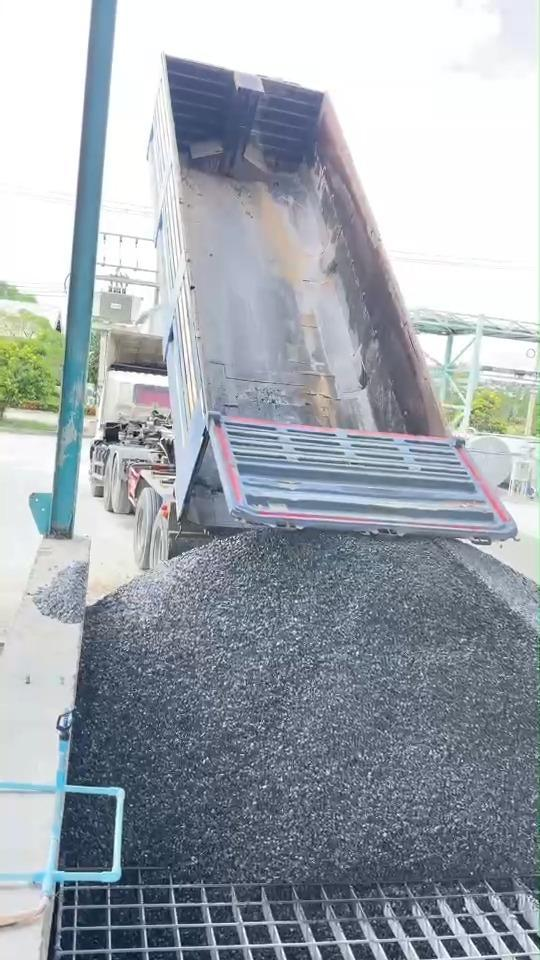gravel: (71, 532, 537, 880), (33, 563, 87, 622), (64, 799, 110, 865)
